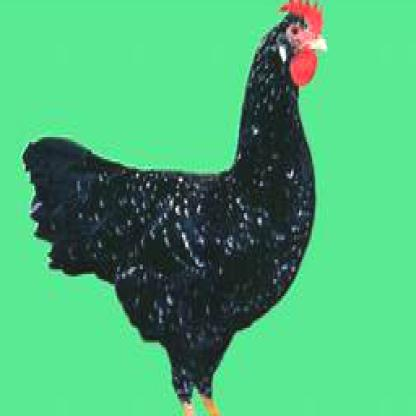chicken: (22, 0, 332, 414)
